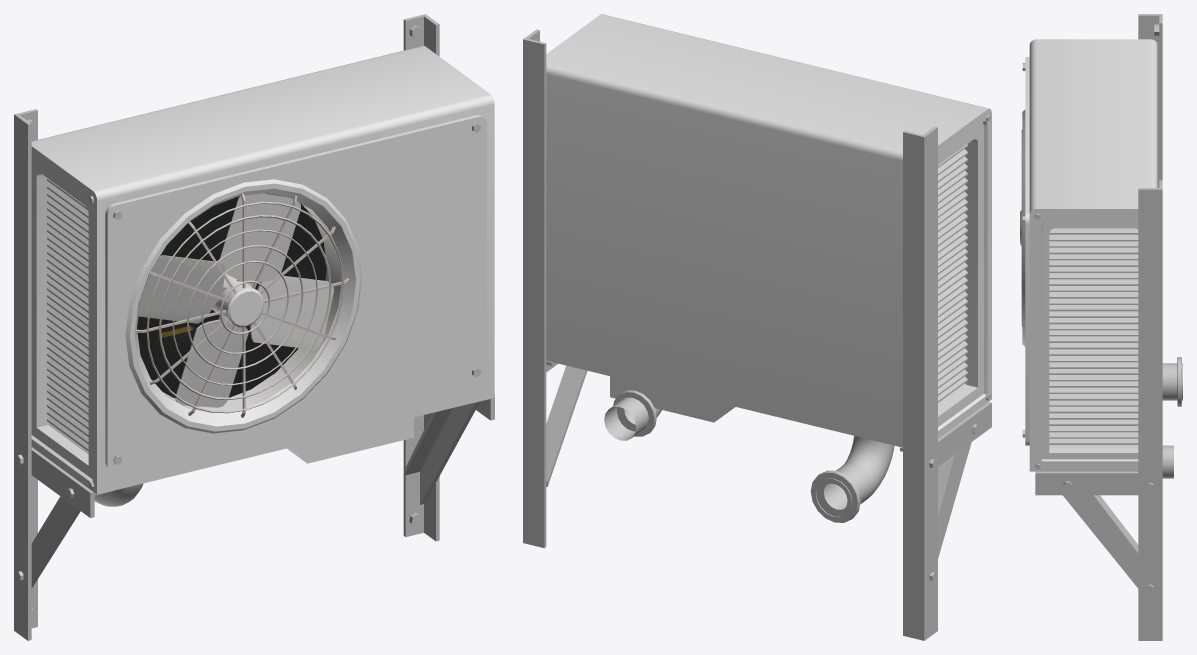
The model's file is KB3D_CBP_ACunit_N.fbx.
3 renders of one model, left to right at view 1: azimuth 30°, elevation 25°; view 2: azimuth 150°, elevation 25°; view 3: azimuth 270°, elevation 25°, orthographic. The views are drawn at different scales.
Parts seen in each view (by area): view 1: KB3D_CBP_ACunit_N_Main; view 2: KB3D_CBP_ACunit_N_Main; view 3: KB3D_CBP_ACunit_N_Main.
Boxes of the visible parts, box(x1,y1,x2,y2) form: KB3D_CBP_ACunit_N_Main: box(14, 14, 494, 640); KB3D_CBP_ACunit_N_Main: box(523, 14, 991, 640); KB3D_CBP_ACunit_N_Main: box(1020, 14, 1182, 640).
Bounding box in the file's own units: 116 × 137 × 44.73.
